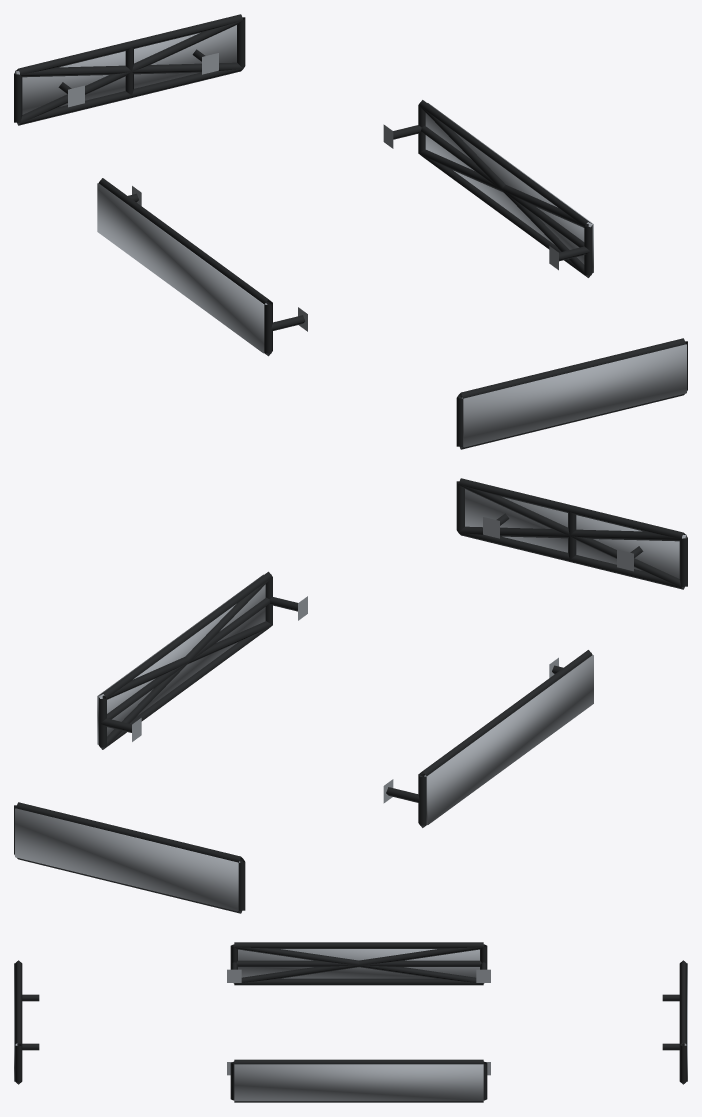
The model's file is ashby_estrondo_protecao.glb.
3 views of the same model, one above another, from view 1: azimuth 30°, elevation 25°; view 2: azimuth 150°, elevation 25°; view 3: azimuth 270°, elevation 25° (orthographic). The views are drawn at different scales.
Visible parts, largest first — view 1: Protection_front_Level3_Details, Protection_left_Level3_Details, Protection_rear_Level1_Details, Protection_rear_Level3_Details, Protection_right_Level1_Details, Protection_right_Level2_Details, Protection_rear_Level2_Details, Protection_right_Level3_Details, Protection_front_Level1_Details, Protection_left_Level1_Details; view 2: Protection_rear_Level3_Details, Protection_left_Level3_Details, Protection_front_Level1_Details, Protection_front_Level3_Details, Protection_right_Level1_Details, Protection_right_Level2_Details, Protection_front_Level2_Details, Protection_right_Level3_Details, Protection_rear_Level1_Details, Protection_left_Level1_Details; view 3: Protection_right_Level3_Details, Protection_left_Level2_Details, Protection_left_Level1_Details, Protection_left_Level3_Details, Protection_right_Level1_Details, Protection_rear_Level1_Details, Protection_front_Level1_Details.
Boxes of the visible parts, x1=… form: Protection_front_Level3_Details: x1=461, y1=344, x2=686, y2=447; Protection_left_Level3_Details: x1=97, y1=183, x2=267, y2=353; Protection_rear_Level1_Details: x1=14, y1=14, x2=245, y2=125; Protection_rear_Level3_Details: x1=15, y1=25, x2=236, y2=114; Protection_right_Level1_Details: x1=383, y1=100, x2=592, y2=277; Protection_right_Level2_Details: x1=419, y1=106, x2=591, y2=277; Protection_rear_Level2_Details: x1=16, y1=20, x2=243, y2=124; Protection_right_Level3_Details: x1=425, y1=103, x2=593, y2=272; Protection_front_Level1_Details: x1=456, y1=338, x2=687, y2=449; Protection_left_Level1_Details: x1=99, y1=178, x2=307, y2=356; Protection_rear_Level3_Details: x1=15, y1=808, x2=240, y2=911; Protection_left_Level3_Details: x1=424, y1=655, x2=593, y2=824; Protection_front_Level1_Details: x1=456, y1=478, x2=687, y2=589; Protection_front_Level3_Details: x1=465, y1=489, x2=686, y2=578; Protection_right_Level1_Details: x1=98, y1=571, x2=307, y2=749; Protection_right_Level2_Details: x1=98, y1=577, x2=272, y2=749; Protection_front_Level2_Details: x1=458, y1=484, x2=685, y2=588; Protection_right_Level3_Details: x1=97, y1=574, x2=265, y2=744; Protection_rear_Level1_Details: x1=14, y1=802, x2=245, y2=913; Protection_left_Level1_Details: x1=383, y1=650, x2=592, y2=827; Protection_right_Level3_Details: x1=234, y1=1064, x2=483, y2=1101; Protection_left_Level2_Details: x1=234, y1=945, x2=483, y2=983; Protection_left_Level1_Details: x1=227, y1=942, x2=490, y2=985; Protection_left_Level3_Details: x1=238, y1=949, x2=479, y2=978; Protection_right_Level1_Details: x1=227, y1=1059, x2=490, y2=1102; Protection_rear_Level1_Details: x1=662, y1=960, x2=686, y2=1084; Protection_front_Level1_Details: x1=15, y1=960, x2=39, y2=1084.
Size of the model in its own units: 2.14 by 0.354 by 5.03.
Materials: 1 (1 with a texture image).
